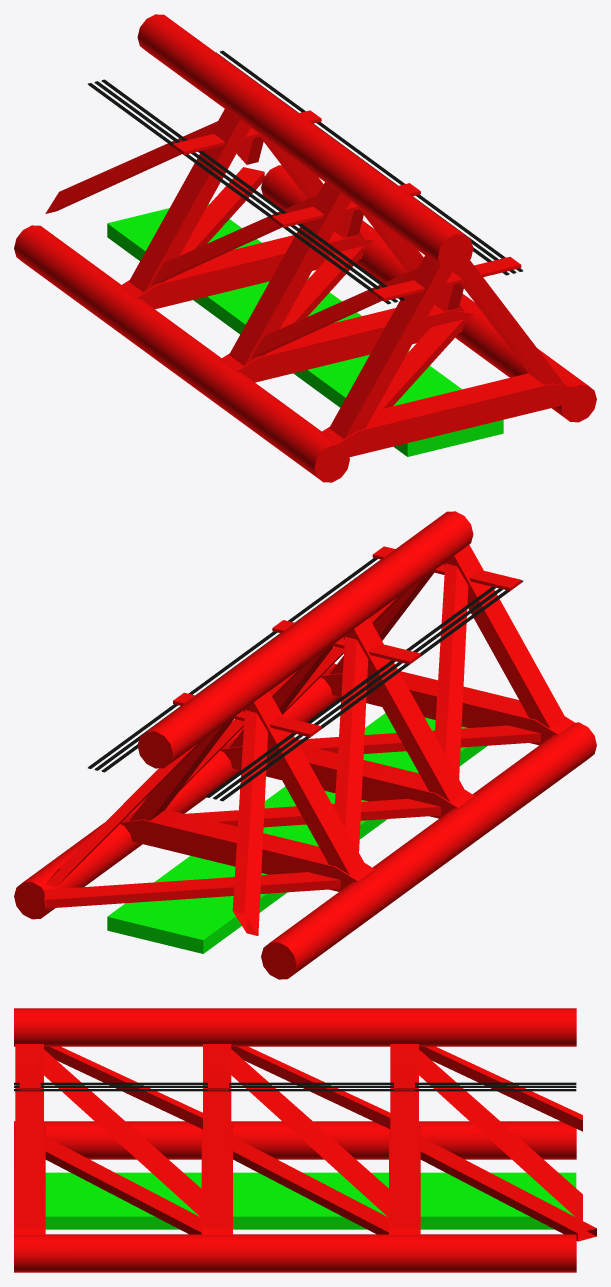
The model's file is inverted_dark_track_MOCKUP.fbx.
3 views of the same model, one above another, from view 1: azimuth 30°, elevation 25°; view 2: azimuth 150°, elevation 25°; view 3: azimuth 270°, elevation 25° (orthographic). The views are drawn at different scales.
Visible parts, largest first — view 1: inverted_dark_track_MOCKUP; view 2: inverted_dark_track_MOCKUP; view 3: inverted_dark_track_MOCKUP.
Boxes of the visible parts, <box> form: inverted_dark_track_MOCKUP: <box>14,14,596,482</box>; inverted_dark_track_MOCKUP: <box>14,511,596,979</box>; inverted_dark_track_MOCKUP: <box>14,1008,596,1272</box>.
Size of the model in its own units: 0.5431 by 0.4007 by 1.04.
